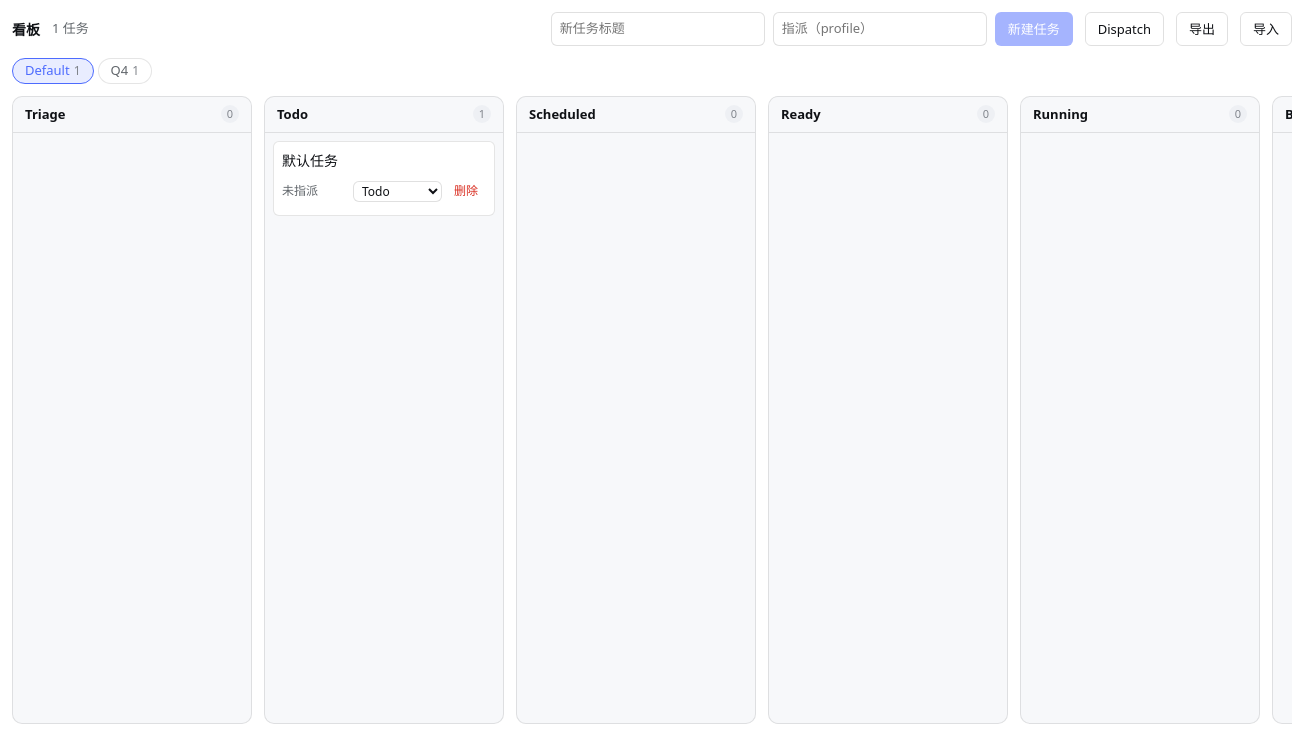
Test case: KanbanPage › switches boards via ?board=
Expected: the button "默认任务" is shown, [282, 150, 486, 171]
Click the tab "Q4 1": (125, 71) [98, 58, 152, 84]
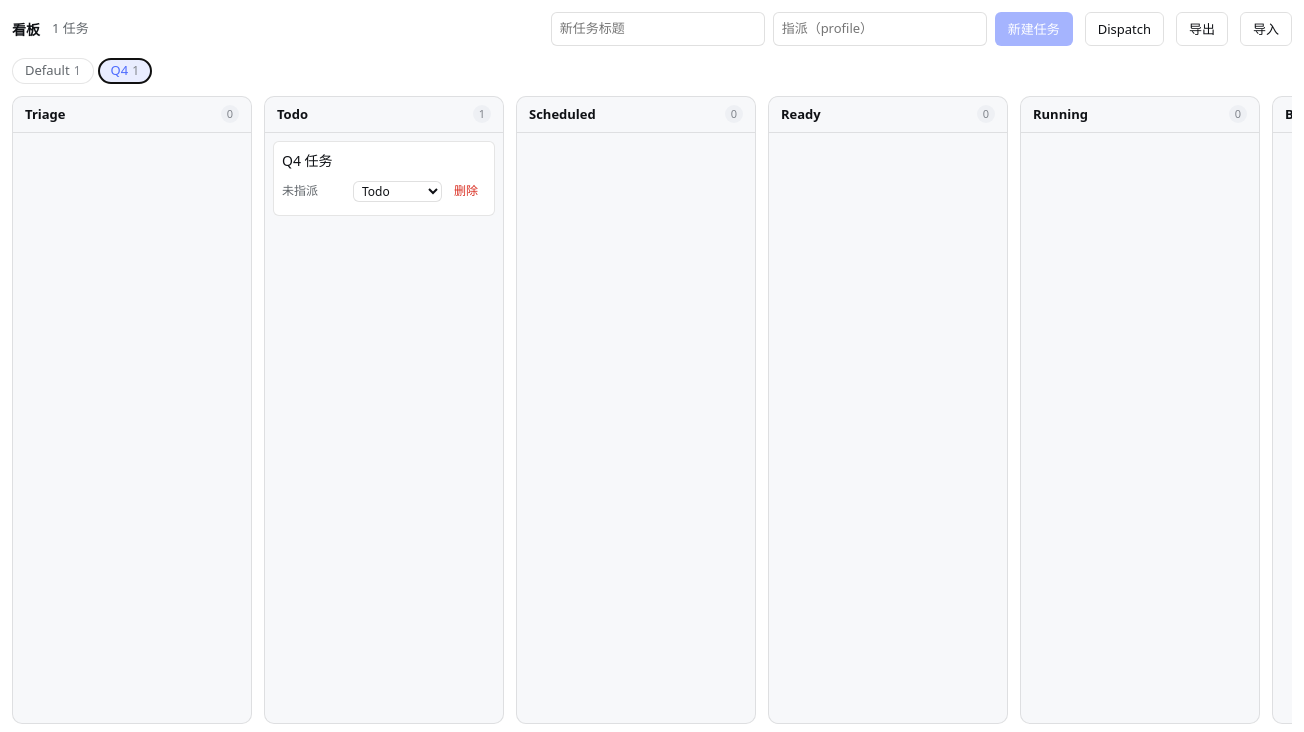
Expected: the button "Q4 任务" is shown, [282, 150, 486, 171]
